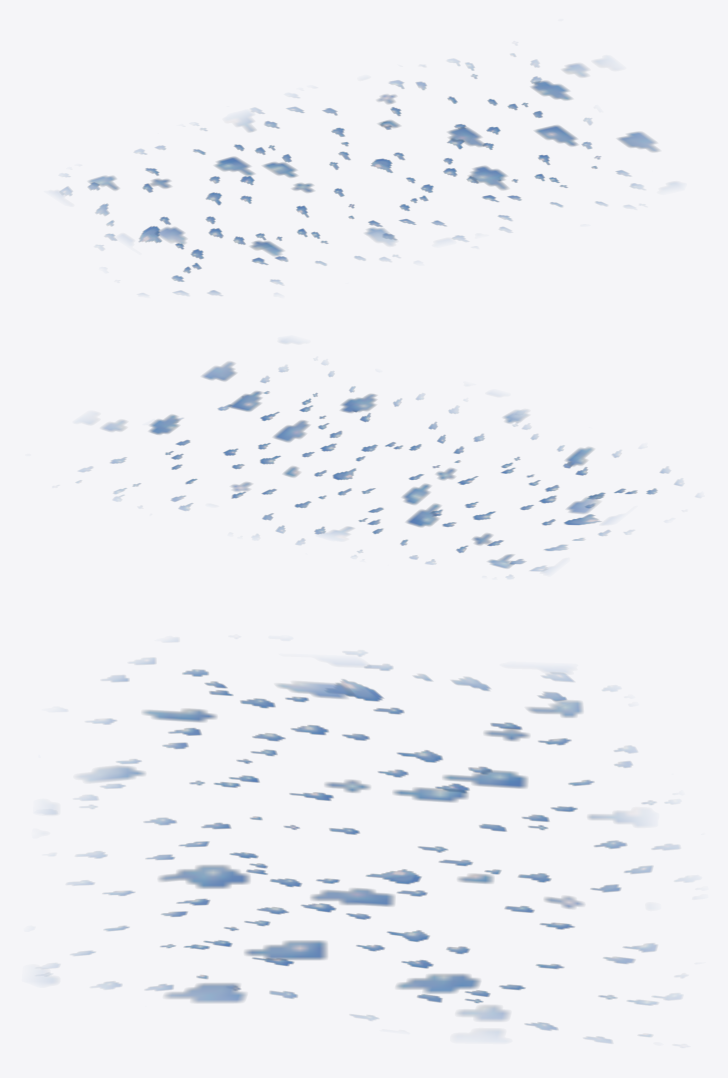
3 views of the same model, one above another, from view 1: azimuth 30°, elevation 25°; view 2: azimuth 150°, elevation 25°; view 3: azimuth 270°, elevation 25° (orthographic). The views are drawn at different scales.
Parts seen in each view (by area): view 1: 26811; view 2: 26811; view 3: 26811.
Part boxes in pixels (bbox=[...]): 26811: bbox=[56, 43, 678, 295]; 26811: bbox=[76, 340, 699, 578]; 26811: bbox=[35, 638, 692, 1043].
Size of the model in its own units: 1.71 by 0.0659 by 1.1.
1 material, 1 textured.
